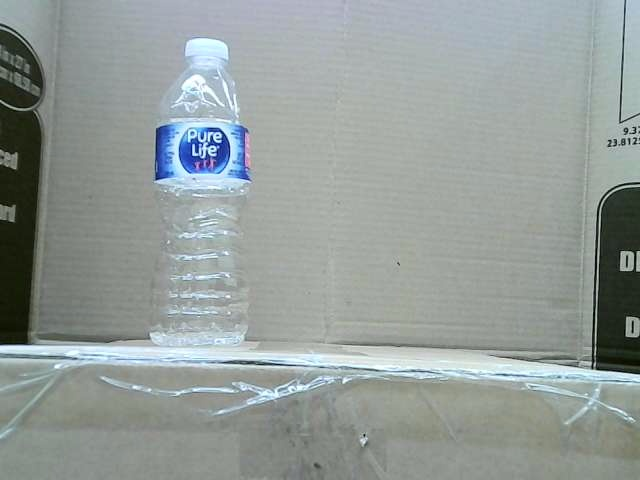WaterBottle: (150, 38, 251, 349)
